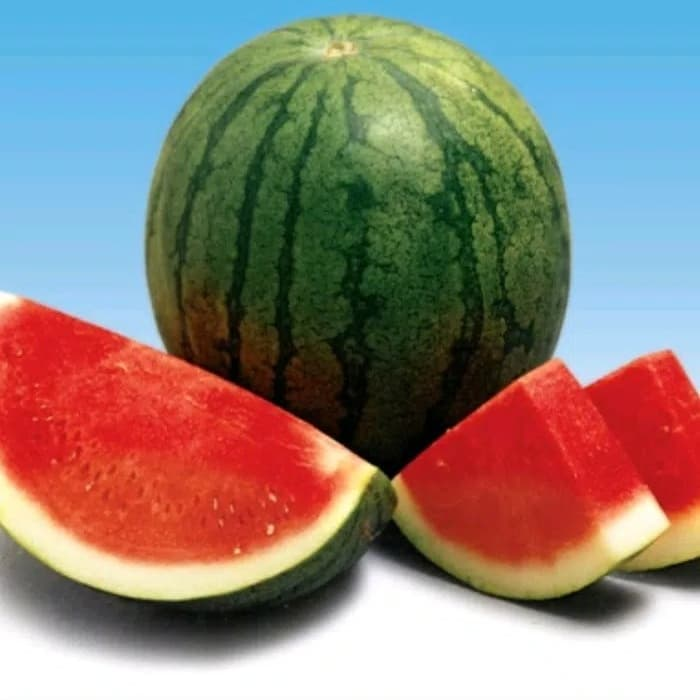Semangka: (393, 391, 633, 599), (556, 353, 700, 483)
